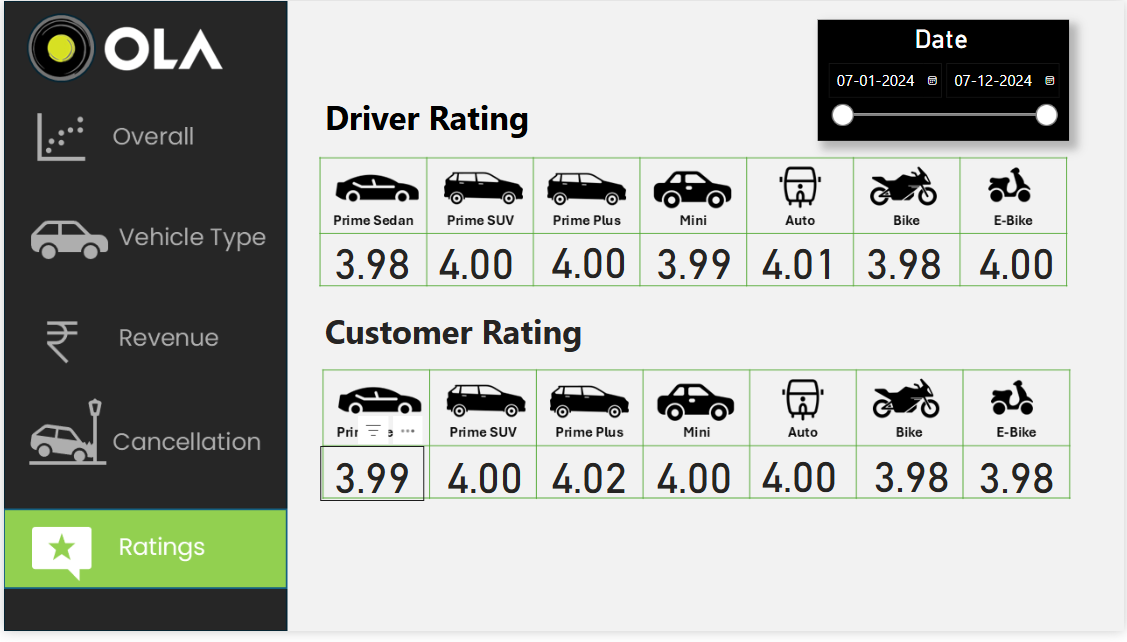

Layout of this report page (visuals, bound fields, positions):
{"tool":"powerbi","page":{"name":"Ratings","canvas":[1280,720],"ordinal":4},"visuals":[{"type":"actionButton","box":[0,227.8,323.3,90],"z":0},{"type":"actionButton","box":[0,114.4,323.3,90],"z":1000},{"type":"actionButton","box":[0,445.6,323.3,106.7],"z":2000},{"type":"actionButton","box":[0,335.6,323.3,110],"z":3000},{"type":"card","fields":{"Values":["Avg(Bookings.Driver_Ratings)"]},"box":[361.2,263.8,118.8,62.5],"z":4000},{"type":"card","fields":{"Values":["Avg(Bookings.Driver_Ratings)"]},"box":[480,263.8,118.8,62.5],"z":5000},{"type":"card","fields":{"Values":["Avg(Bookings.Driver_Ratings)"]},"box":[609.3,263.5,119.4,63.1],"z":6000},{"type":"card","fields":{"Values":["Avg(Bookings.Driver_Ratings)"]},"box":[728.8,263.8,120,62.5],"z":7000},{"type":"card","fields":{"Values":["Avg(Bookings.Driver_Ratings)"]},"box":[848.8,263.8,120,62.5],"z":8000},{"type":"card","fields":{"Values":["Avg(Bookings.Driver_Ratings)"]},"box":[968.8,263.8,120,62.5],"z":9000},{"type":"card","fields":{"Values":["Avg(Bookings.Driver_Ratings)"]},"box":[1097.5,263.8,120,62.5],"z":10000},{"type":"card","fields":{"Values":["Avg(Bookings.Customer_Rating)"]},"box":[361.2,508.8,118.8,62.5],"z":11000},{"type":"card","fields":{"Values":["Avg(Bookings.Customer_Rating)"]},"box":[490,508.8,118.8,62.5],"z":12000},{"type":"card","fields":{"Values":["Avg(Bookings.Customer_Rating)"]},"box":[608.8,508.8,120,62.5],"z":13000},{"type":"card","fields":{"Values":["Avg(Bookings.Customer_Rating)"]},"box":[728.8,508.8,120,62.5],"z":14000},{"type":"card","fields":{"Values":["Avg(Bookings.Customer_Rating)"]},"box":[848.8,508.8,120,61.2],"z":15000},{"type":"card","fields":{"Values":["Avg(Bookings.Customer_Rating)"]},"box":[977.5,507.5,120,62.5],"z":16000},{"type":"card","fields":{"Values":["Avg(Bookings.Customer_Rating)"]},"box":[1097.5,508.8,120,62.5],"z":17000},{"type":"textbox","box":[361.2,102.5,278.8,68.8],"z":18000},{"type":"textbox","box":[361.2,347.5,327.5,71.2],"z":18001},{"type":"slicer","title":"Date","fields":{"Values":["Bookings.Date"]},"box":[930,21.2,287.5,138.8],"z":18002}]}

Visuals, with their boxes in screenshot pixels (x1, y1, x2, y2), scaled from the page's 1280x720 canvas onto the 1127x642 screenshot:
actionButton: rect(0, 203, 285, 283)
actionButton: rect(0, 102, 285, 182)
actionButton: rect(0, 397, 285, 492)
actionButton: rect(0, 299, 285, 397)
card - Avg(Bookings.Driver_Ratings): rect(318, 235, 423, 291)
card - Avg(Bookings.Driver_Ratings): rect(423, 235, 527, 291)
card - Avg(Bookings.Driver_Ratings): rect(536, 235, 642, 291)
card - Avg(Bookings.Driver_Ratings): rect(642, 235, 747, 291)
card - Avg(Bookings.Driver_Ratings): rect(747, 235, 853, 291)
card - Avg(Bookings.Driver_Ratings): rect(853, 235, 959, 291)
card - Avg(Bookings.Driver_Ratings): rect(966, 235, 1072, 291)
card - Avg(Bookings.Customer_Rating): rect(318, 454, 423, 509)
card - Avg(Bookings.Customer_Rating): rect(431, 454, 536, 509)
card - Avg(Bookings.Customer_Rating): rect(536, 454, 642, 509)
card - Avg(Bookings.Customer_Rating): rect(642, 454, 747, 509)
card - Avg(Bookings.Customer_Rating): rect(747, 454, 853, 508)
card - Avg(Bookings.Customer_Rating): rect(861, 453, 966, 508)
card - Avg(Bookings.Customer_Rating): rect(966, 454, 1072, 509)
textbox: rect(318, 91, 564, 153)
textbox: rect(318, 310, 606, 373)
"Date" slicer: rect(819, 19, 1072, 143)
